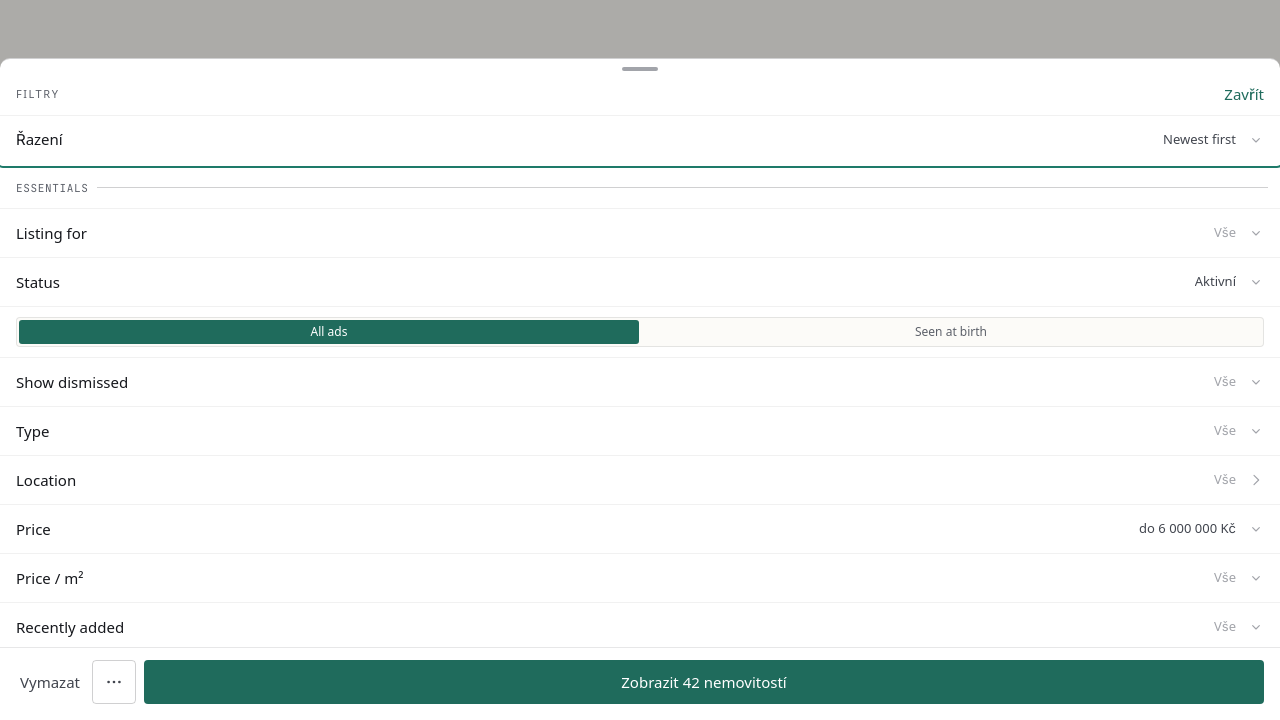
presets from the phone › offers no update while Vše is the scope
This screenshot has width=1280, height=720.
Click the button named "Předvolba" at (114, 682), box [92, 660, 136, 704]
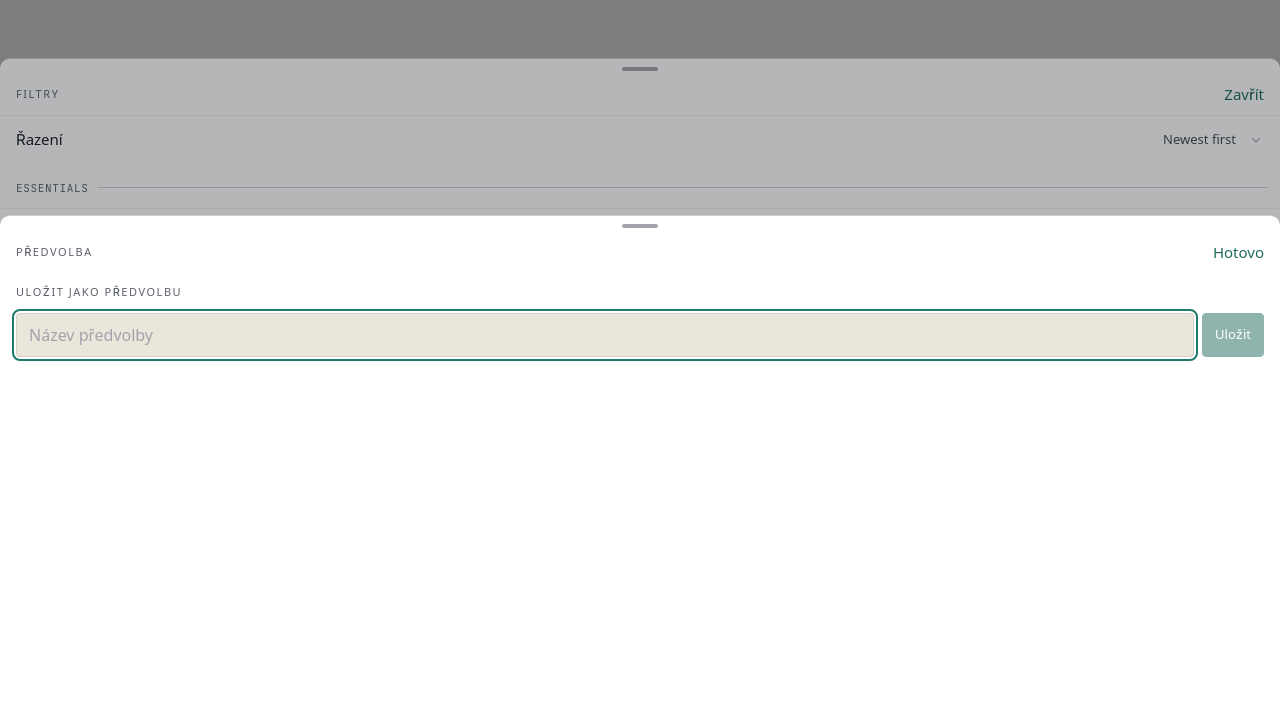
Now the field labelled "Název předvolby" is shown, box [16, 312, 1194, 356]
